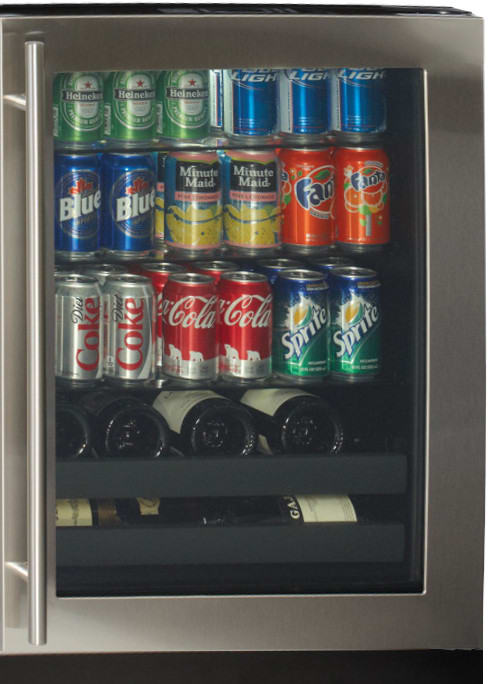dietcoke: (109, 294, 149, 370), (65, 294, 103, 373)
heineken: (164, 72, 211, 126), (61, 75, 104, 133), (113, 72, 154, 128)
labattblue: (59, 176, 102, 239), (114, 176, 155, 234)
minutemaid: (231, 162, 277, 192), (177, 162, 221, 191)
sprite: (332, 302, 380, 359), (283, 304, 327, 360)
